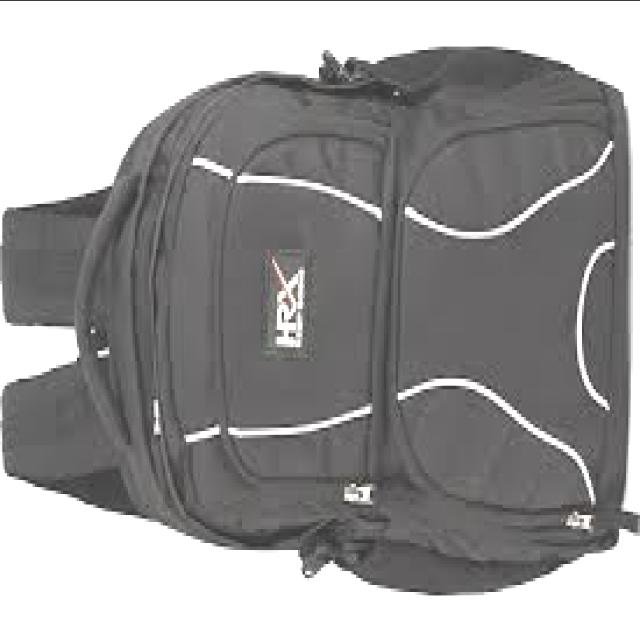backpack: (1, 47, 639, 599)
